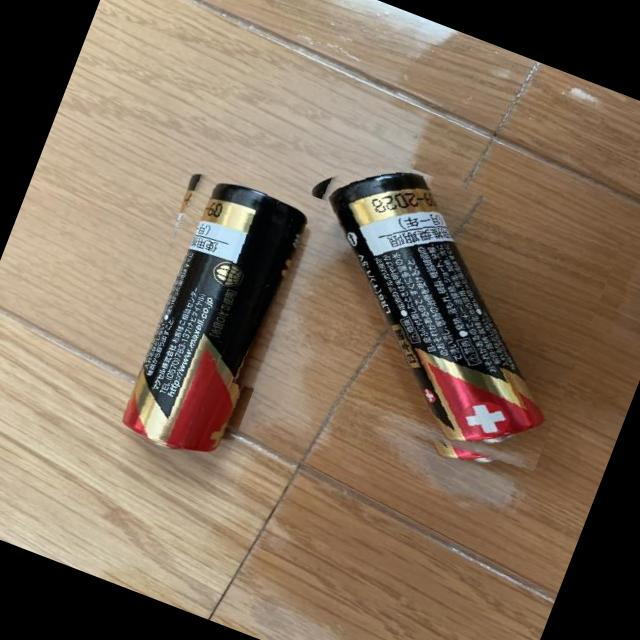Hazard: (232, 136, 620, 494), (80, 145, 326, 474)
